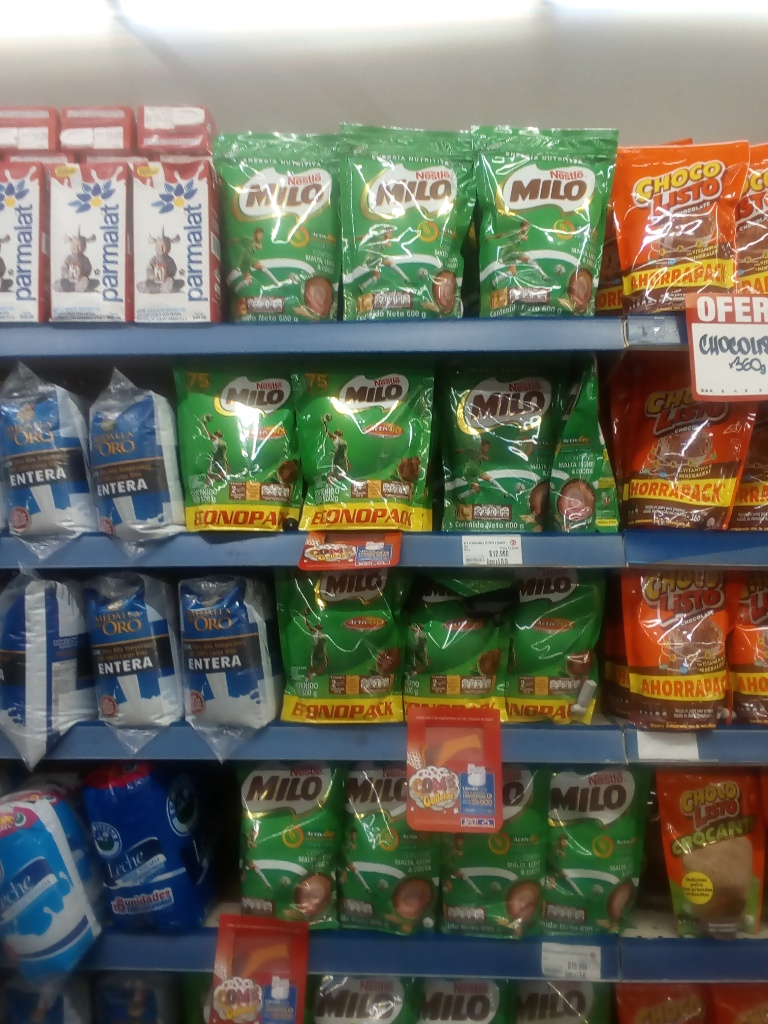COL0170102DYP25000: (655, 761, 766, 936)
COL0170103DYP36000: (609, 142, 750, 317)
COL0170103DYP40000: (623, 565, 734, 729)
COL0170203DYP50000: (166, 353, 304, 534)
